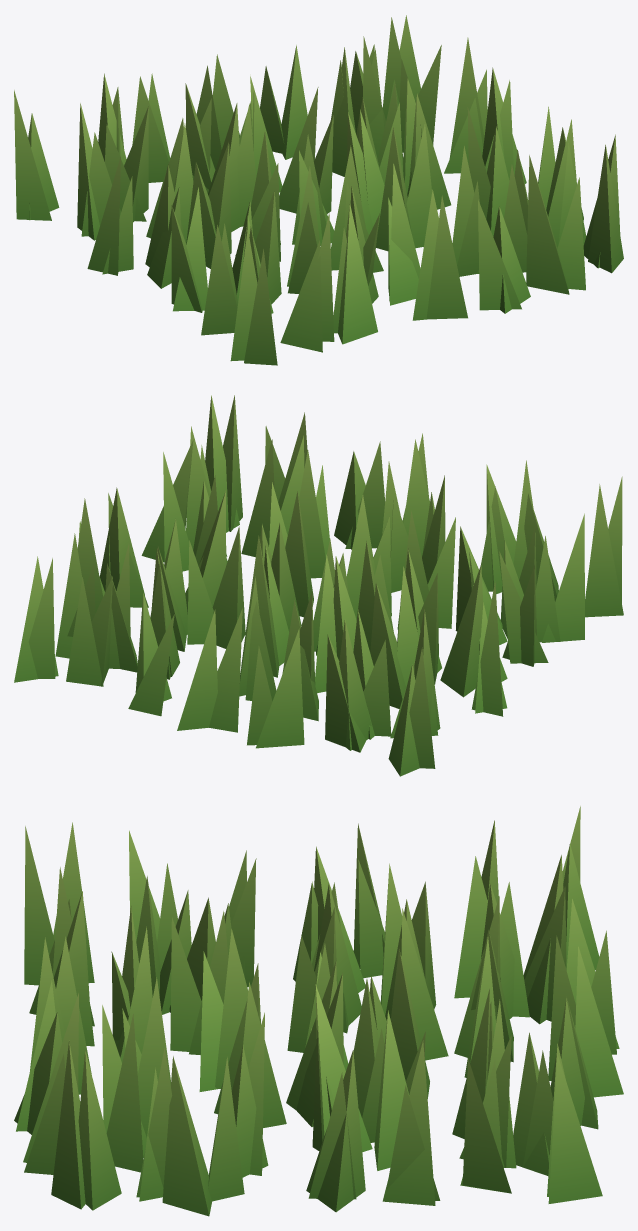
Rendered from tall_grass_4x4.glb.
3 renders of one model, top to bottom at view 1: azimuth 30°, elevation 25°; view 2: azimuth 150°, elevation 25°; view 3: azimuth 270°, elevation 25°, orthographic. The views are drawn at different scales.
Visible parts, largest first — view 1: tall_grass_4x4; view 2: tall_grass_4x4; view 3: tall_grass_4x4.
Part boxes in pixels (<box>): tall_grass_4x4: <box>14,15,623,365</box>; tall_grass_4x4: <box>14,395,623,776</box>; tall_grass_4x4: <box>14,806,623,1216</box>.
Bounding box in the file's own units: 4.17 × 1.2 × 4.14.
Materials: 1 (1 with a texture image).
